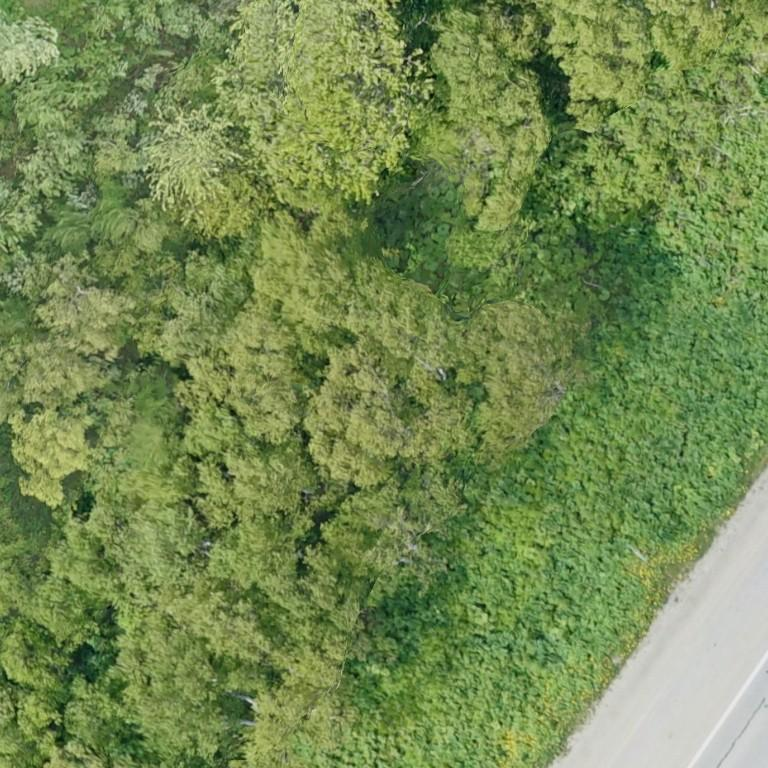hogweed: (335, 251, 767, 767)
